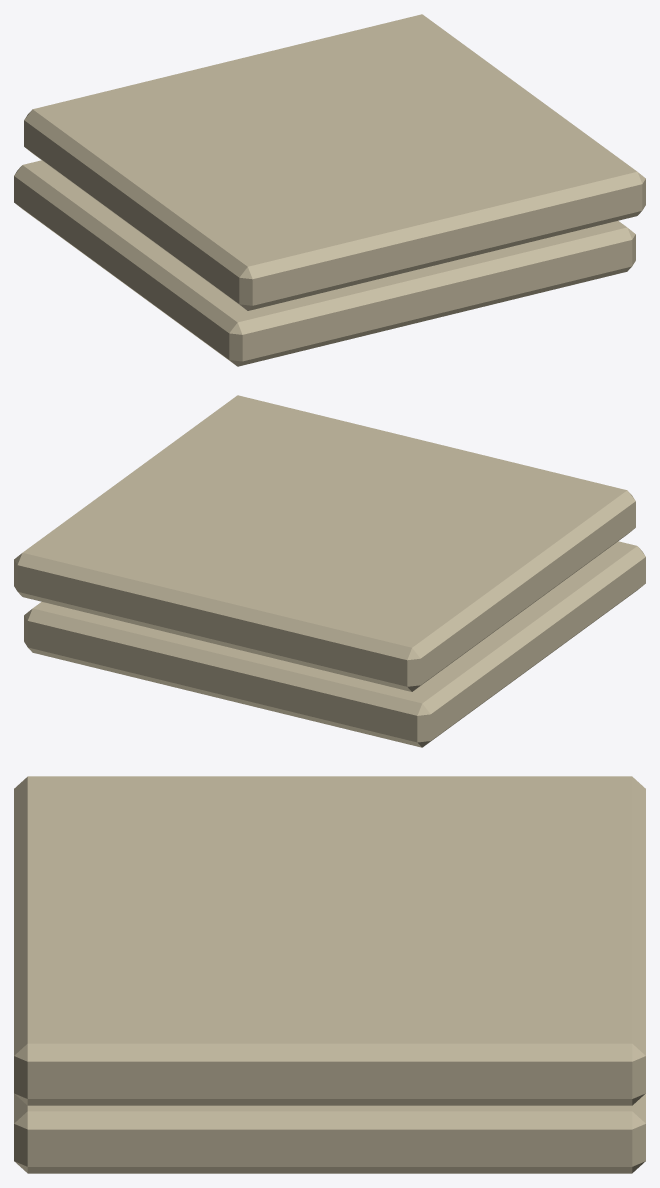
Rendered from set_folded_newspaper.glb.
The picture shows the model from 3 angles, top to bottom: view 1: azimuth 30°, elevation 25°; view 2: azimuth 150°, elevation 25°; view 3: azimuth 270°, elevation 25°; orthographic projection. The views are drawn at different scales.
Visible parts, largest first — view 1: set_folded_newspaper; view 2: set_folded_newspaper; view 3: set_folded_newspaper.
Boxes of the visible parts, bbox=[...] form: set_folded_newspaper: bbox=[14, 14, 645, 366]; set_folded_newspaper: bbox=[14, 395, 645, 747]; set_folded_newspaper: bbox=[14, 776, 645, 1173].
Bounding box in the file's own units: 0.246 × 0.055 × 0.23.
